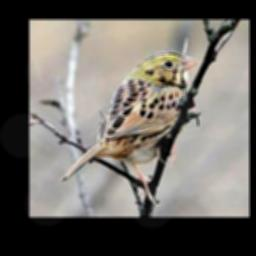Sparrow: (60, 48, 201, 207)
